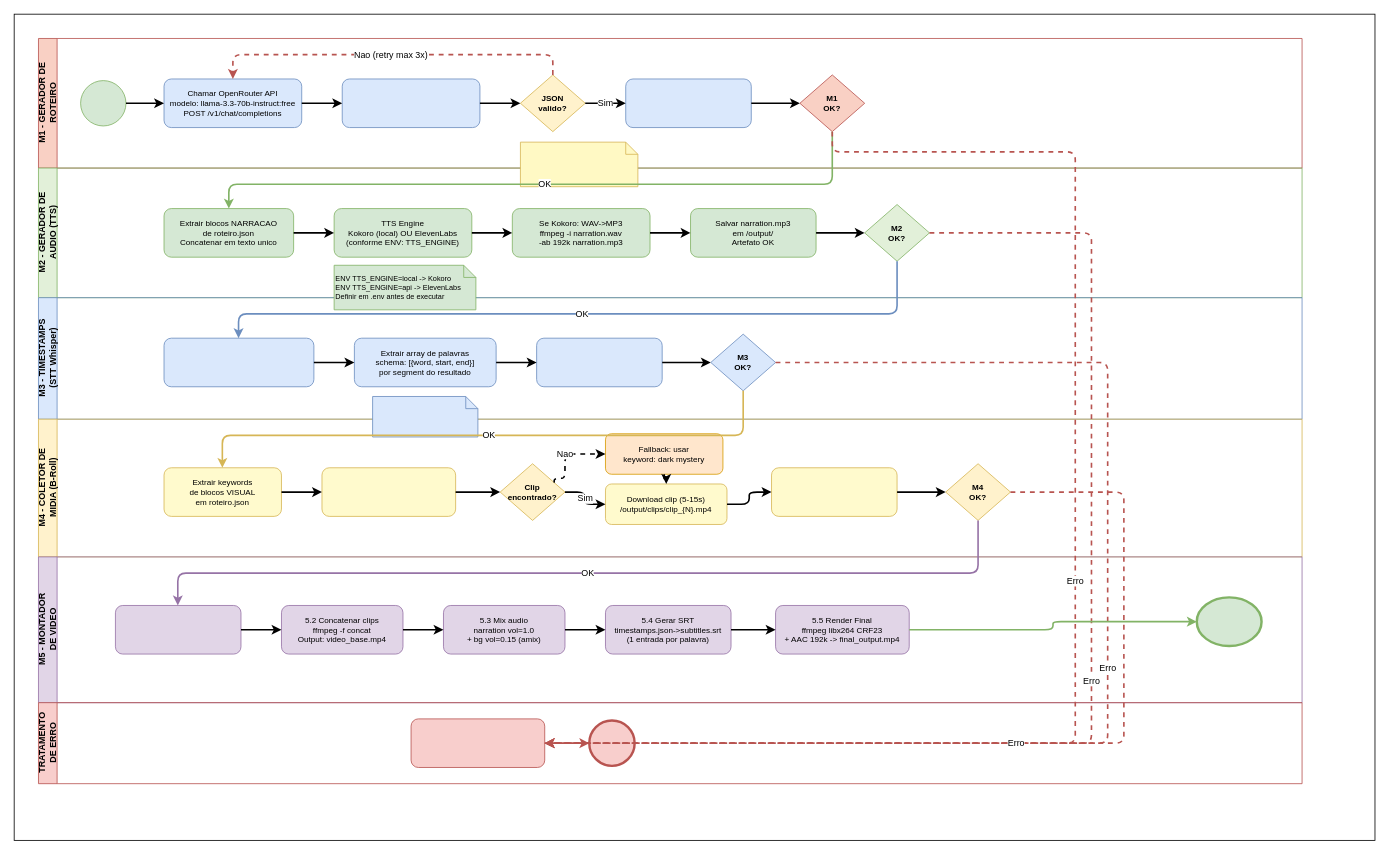
The diagram is 1389 pixels wide and 855 high, and some of its shapes have lost their labels. Each missing label, with the centre of its shape:
"5.1 Normalizar clips ffmpeg scale=1080:1920 crop=1080:1920 -t {dur_bloco}" belongs at point (178, 629).
"FIM (Erro)" belongs at point (611, 743).
"FIM final_output.mp4" belongs at point (1228, 621).
"GPU disponivel: adicionar flag --device cuda" belongs at point (425, 416).
"INICIO (input: tema)" belongs at point (103, 103).
"Parse + Validar JSON Checar schema roteiro.json Min 8 blocos alternados" belongs at point (410, 103).
"Pexels API GET /videos/search?query={kw} &per_page=3&orientation=portrait" belongs at point (388, 491).
"Pixabay Music API GET ?q=dark+cinematic Salvar background.mp3" belongs at point (834, 491).
"Registrar erro no log Identificar modulo falho Notificar operador" belongs at point (477, 742).
"Retry: JSON invalido, repetir com temp=0.2 Max 3 tentativas." belongs at point (579, 164).
"Salvar roteiro.json em /output/ Artefato OK" belongs at point (688, 103).
"Salvar timestamps.json em /output/ Artefato OK" belongs at point (599, 362).
"Whisper STT model.transcribe(narration.mp3, word_timestamps=True, lang=pt)" belongs at point (238, 362).
